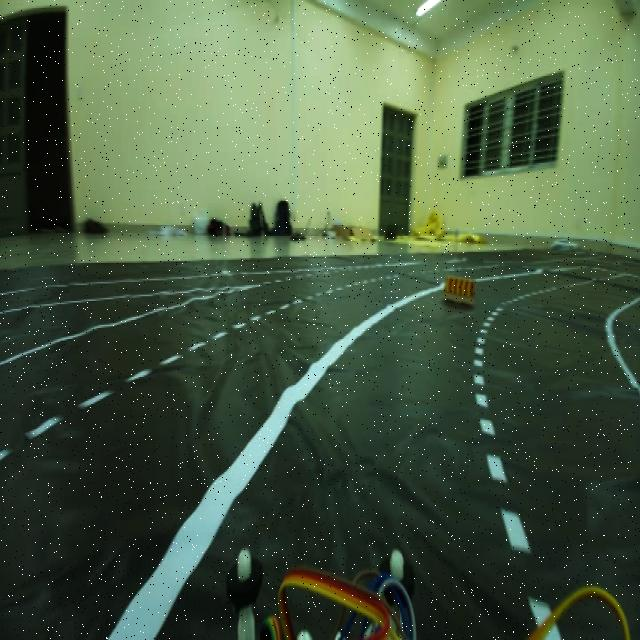roadblock: (440, 268, 474, 312)
